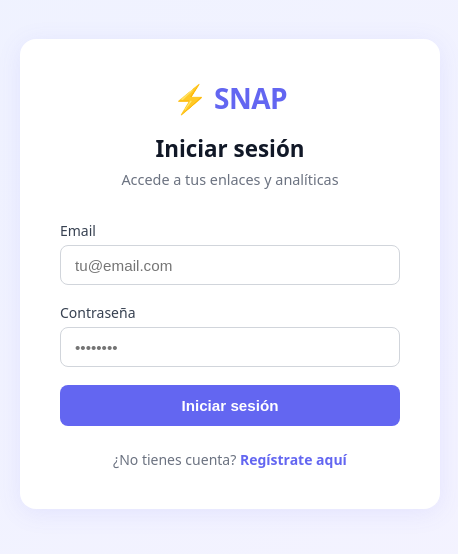
LoginPage › muestra error si el email no tiene formato válido
In the field labelled "Email": (230, 265) left=60, top=245, right=400, bottom=285, type "noesuncorreo"
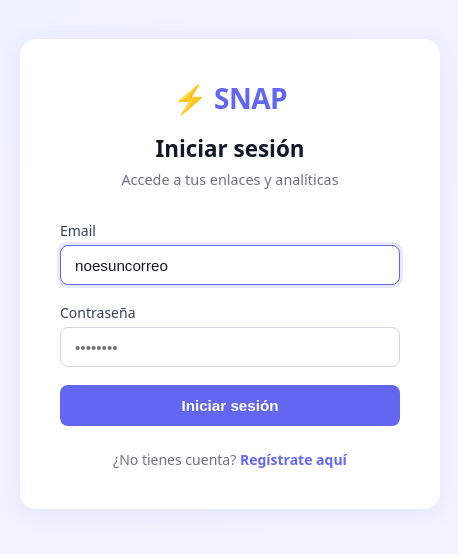
Click the button "Iniciar sesión": (230, 405) left=60, top=385, right=400, bottom=426
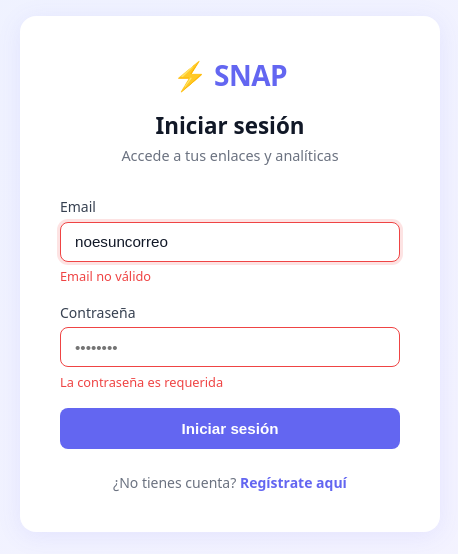
Expected: the text "Email no válido" is shown, left=60, top=267, right=151, bottom=285
